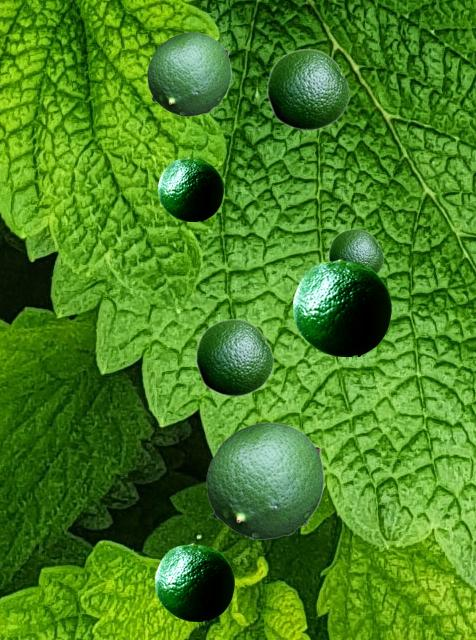calamansi: (206, 422, 323, 538), (293, 259, 390, 355), (147, 32, 230, 115), (266, 48, 349, 130), (195, 318, 273, 396), (155, 543, 233, 620), (158, 157, 222, 220), (328, 228, 383, 273)
